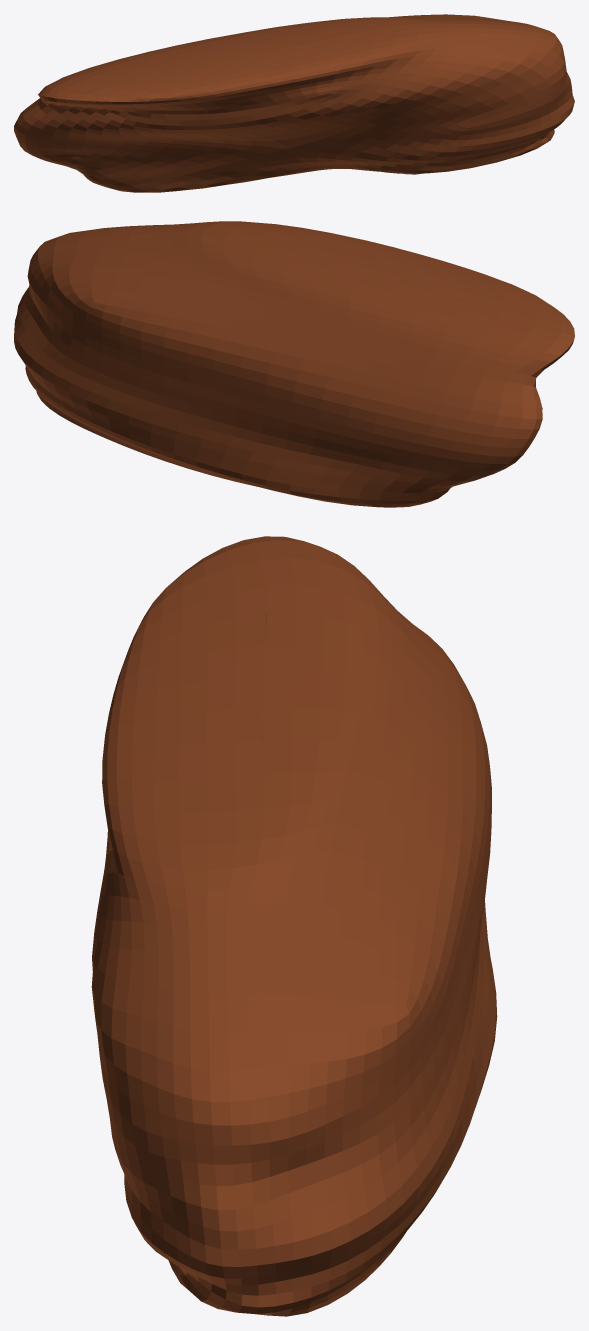
The model's file is lock.gltf.
3 renders of one model, top to bottom at view 1: azimuth 30°, elevation 25°; view 2: azimuth 150°, elevation 25°; view 3: azimuth 270°, elevation 25°, orthographic. The views are drawn at different scales.
Visible parts, largest first — view 1: rock; view 2: rock; view 3: rock.
Part boxes in pixels (<box>): rock: <box>14,14,574,192</box>; rock: <box>14,221,574,507</box>; rock: <box>91,536,497,1316</box>.
Bounding box in the file's own units: 19.34 × 6.14 × 6.65.
Materials: 1 (1 with a texture image).
